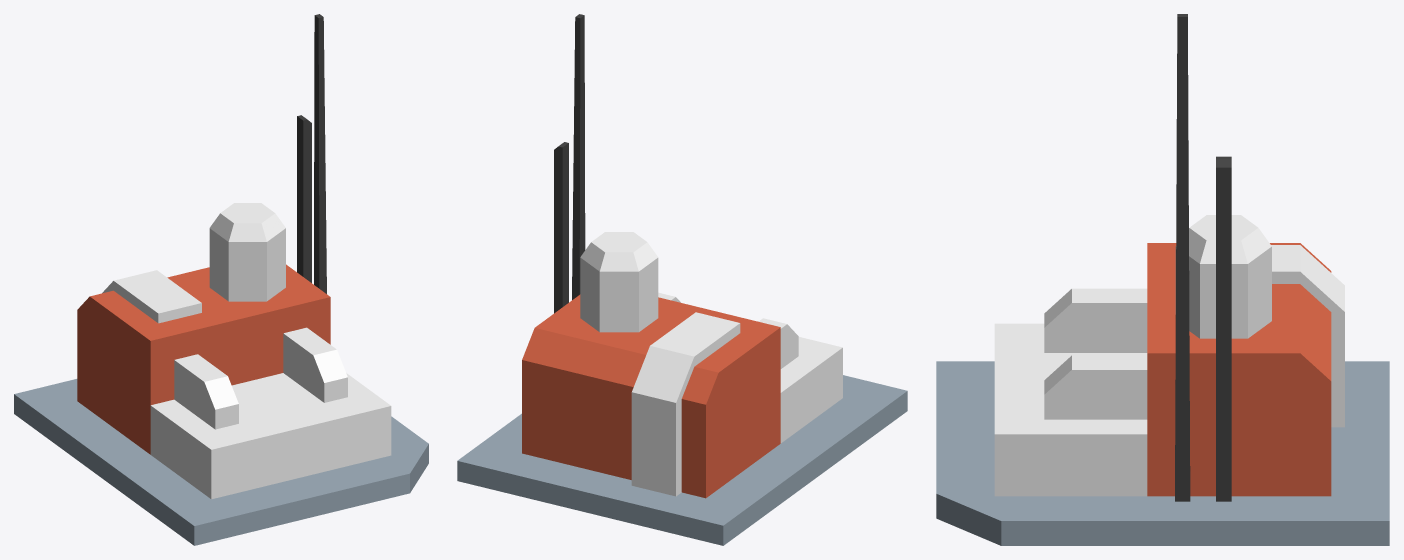
File: stationLarge.fbx
3 views of the same model, side by side, from view 1: azimuth 30°, elevation 25°; view 2: azimuth 150°, elevation 25°; view 3: azimuth 270°, elevation 25° (orthographic). The views are drawn at different scales.
Parts seen in each view (by area): view 1: stationLarge; view 2: stationLarge; view 3: stationLarge.
Part boxes in pixels (bbox=[...]): stationLarge: bbox=[14, 14, 428, 545]; stationLarge: bbox=[457, 14, 907, 545]; stationLarge: bbox=[936, 14, 1389, 545].
Bounding box in the file's own units: 5.5 × 8.15 × 6.6.
